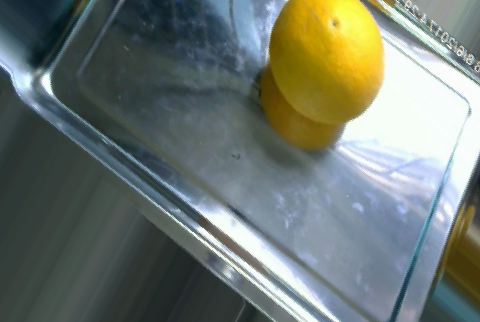Orange: (267, 1, 385, 122)
